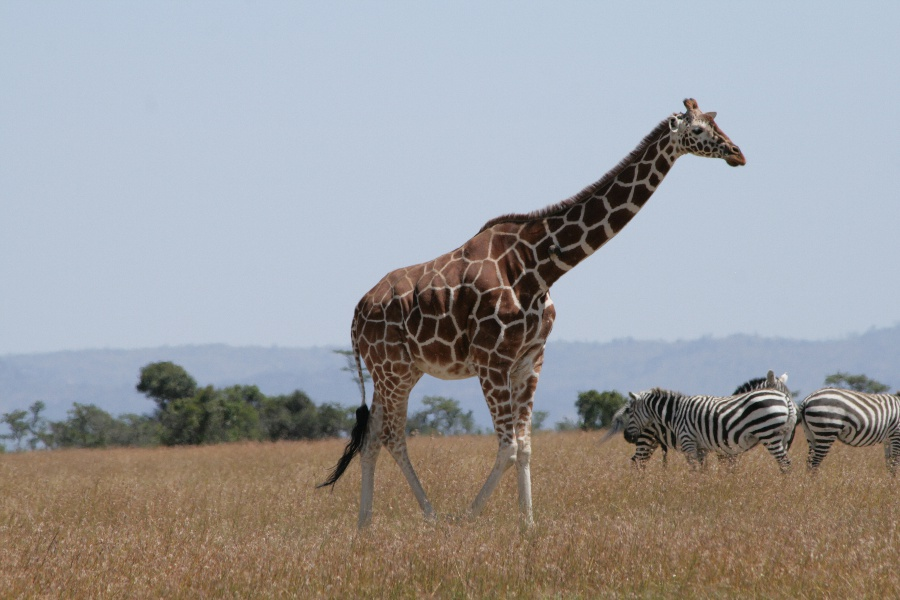giraffe: (316, 90, 750, 539)
